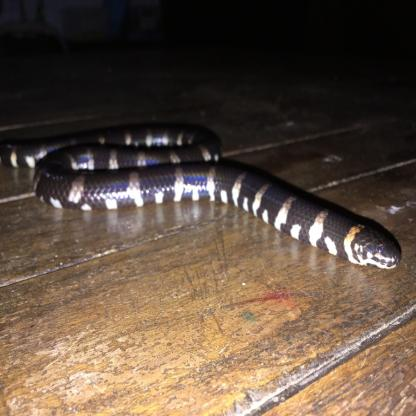Snake: (9, 113, 407, 276)
